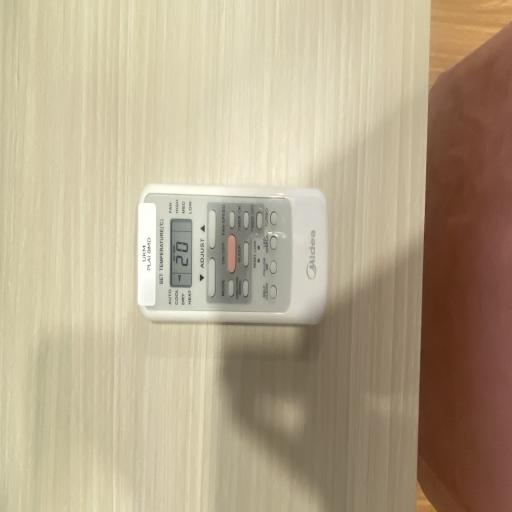remote AC: (132, 177, 334, 338)
